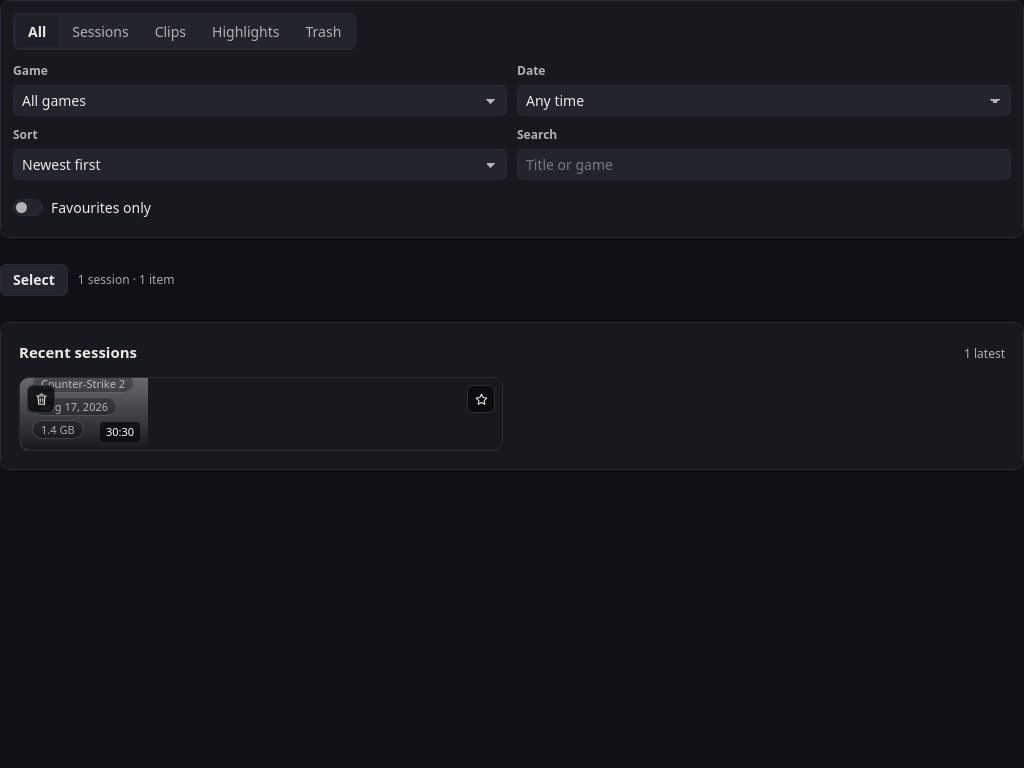
Scenario: LibraryView delete and selection › quotes the retention the shell was pushed, not a hardcoded 24 hours
The width and height of the screenshot is (1024, 768).
Click the button named "Delete Ranked win".
click(41, 399)  # box [27, 385, 55, 413]
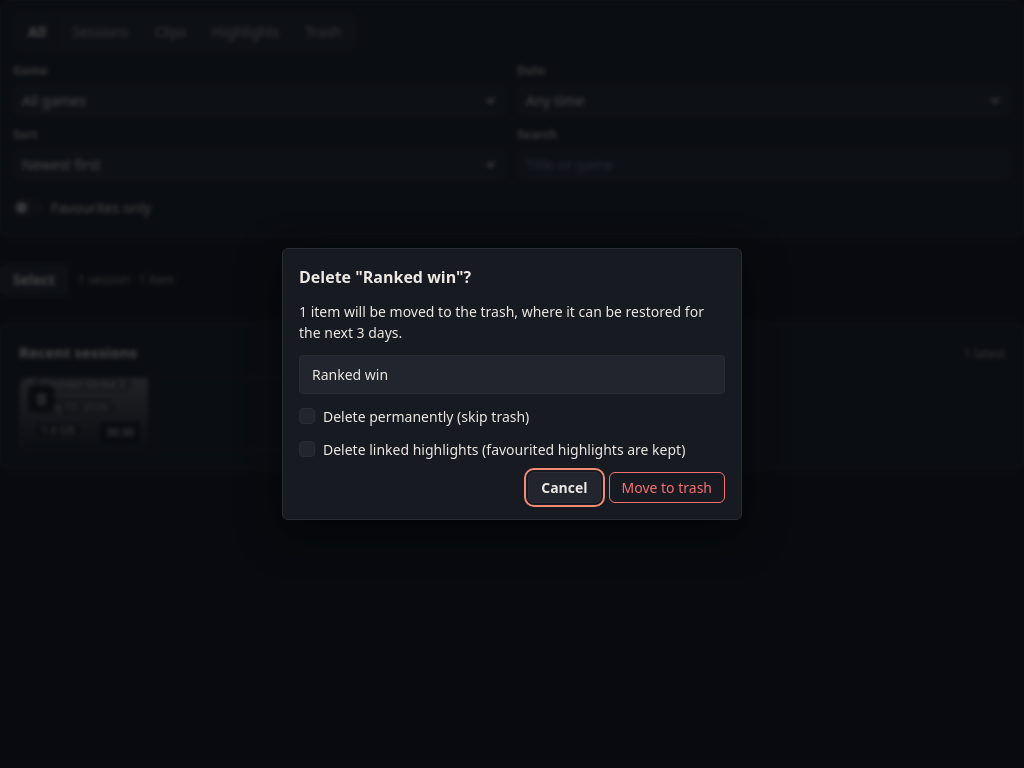
expect the text with test id "confirm-delete-notice" shows "for the next 3 days": met, box [299, 302, 704, 342]
